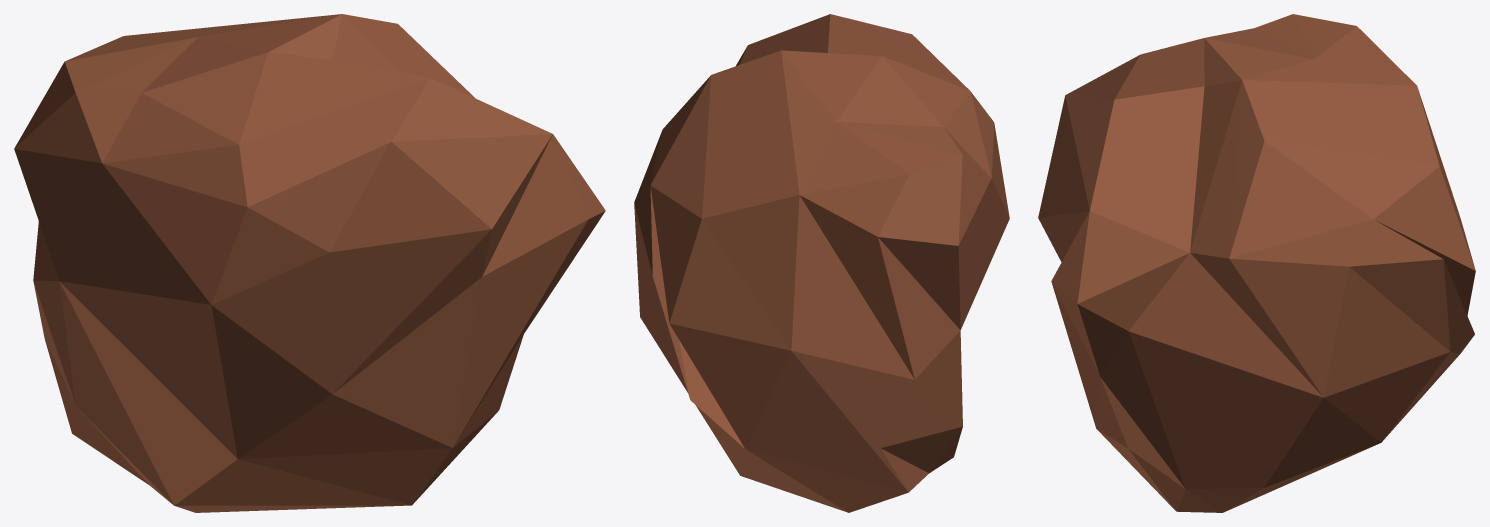
File: Asteroid.003.glb
3 renders of one model, left to right at view 1: azimuth 30°, elevation 25°; view 2: azimuth 150°, elevation 25°; view 3: azimuth 270°, elevation 25°, orthographic. The views are drawn at different scales.
Parts seen in each view (by area): view 1: Asteroid.003; view 2: Asteroid.003; view 3: Asteroid.003.
Boxes of the visible parts, x1,y1,x2,y2 form: Asteroid.003: [14, 14, 605, 512]; Asteroid.003: [634, 14, 1009, 512]; Asteroid.003: [1038, 14, 1475, 512].
Size of the model in its own units: 7.44 by 7.83 by 7.3.
Materials: 1 (1 with a texture image).
